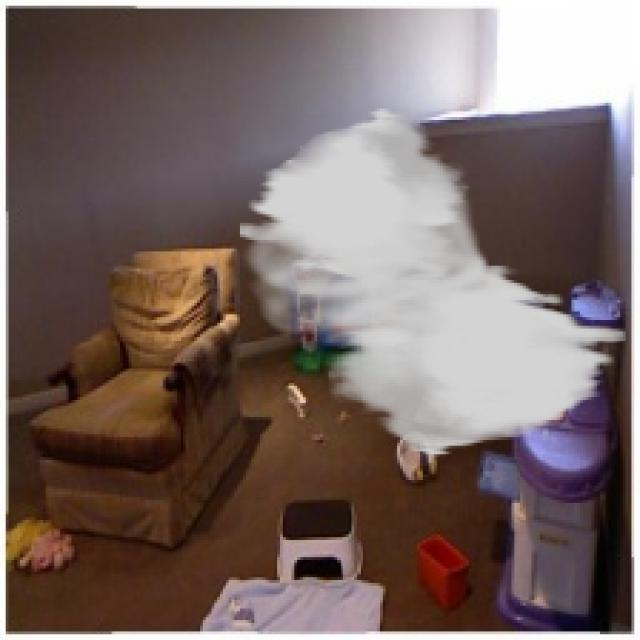Smoke: (237, 106, 626, 457)
